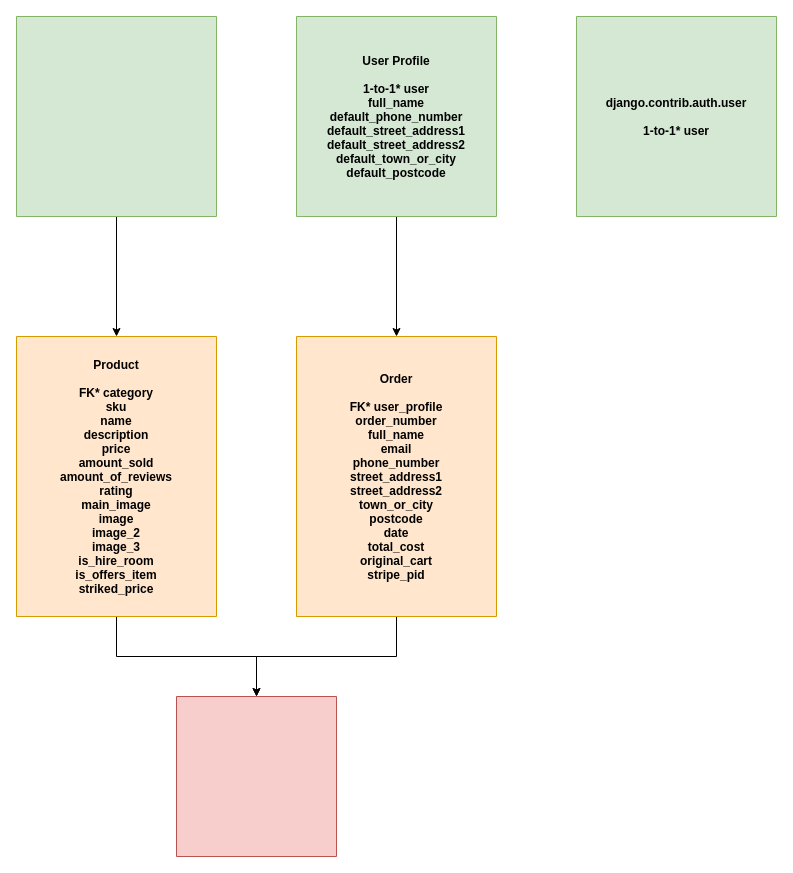
Image size: 793x873. Some labels were removed from this diagram. The shapes that lost their labels are listed below. From the top down, each one's centre as x and y in pixels, then its label:
At (x=116, y=116): "Category name friendly_name".
At (x=256, y=776): "OrderLineItem FK* order FK* product quantity line_item_total date time".
